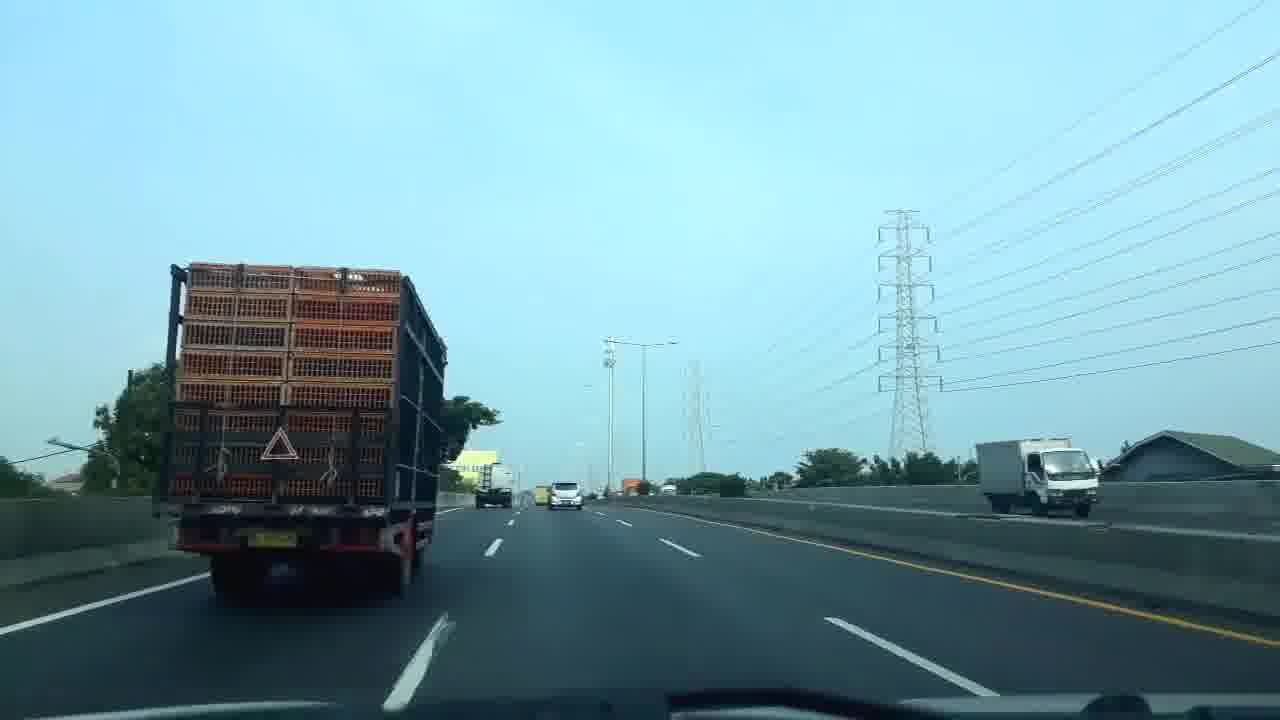plate_positive: (247, 531, 297, 547), (561, 500, 571, 504)
